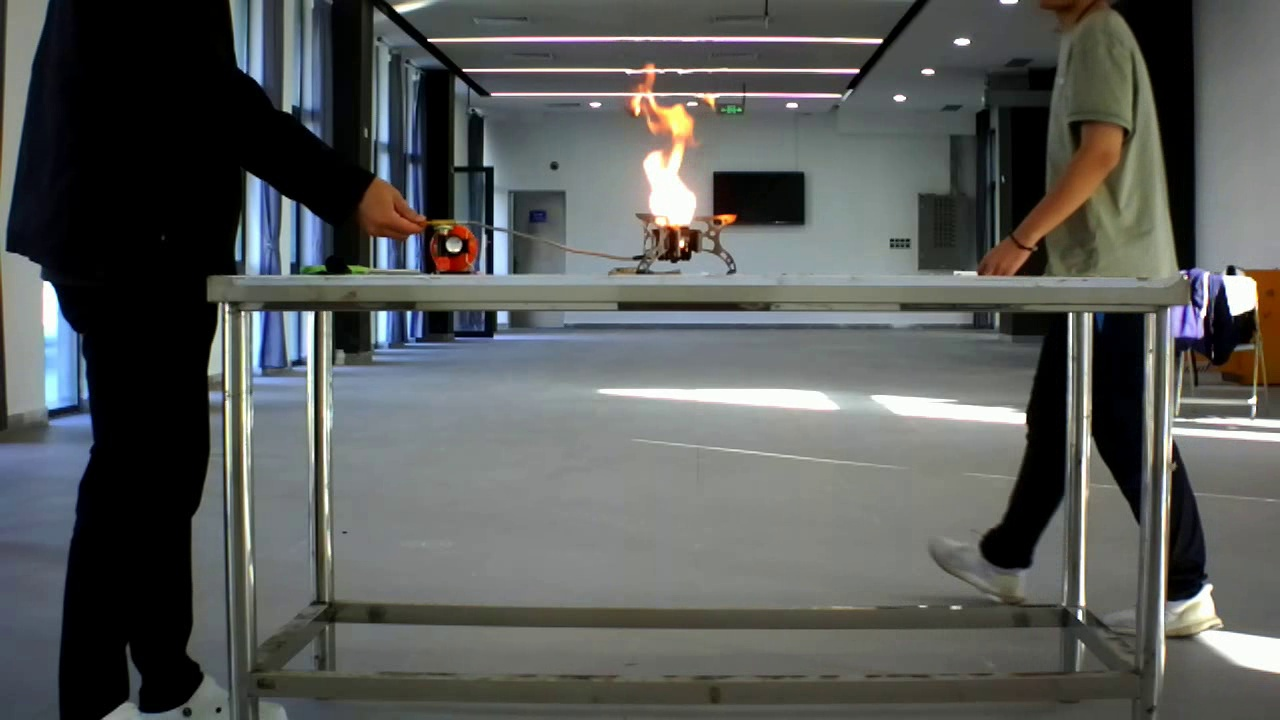Fire: (614, 65, 742, 258)
